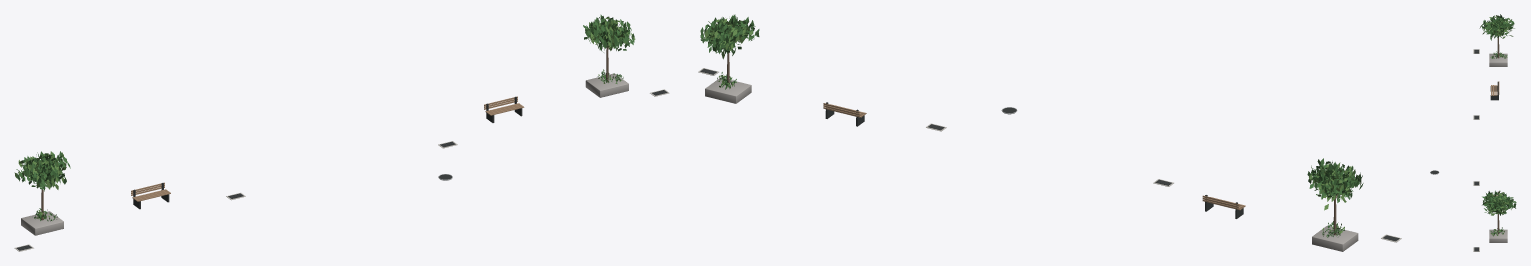
The model's file is hero-street.glb.
3 views of the same model, side by side, from view 1: azimuth 30°, elevation 25°; view 2: azimuth 150°, elevation 25°; view 3: azimuth 270°, elevation 25° (orthographic). The views are drawn at different scales.
Parts seen in each view (by area): view 1: SM_heroStreet; view 2: SM_heroStreet; view 3: SM_heroStreet.
Boxes of the visible parts, x1=… form: SM_heroStreet: x1=14, y1=14, x2=669, y2=251; SM_heroStreet: x1=698, y1=14, x2=1401, y2=251; SM_heroStreet: x1=1430, y1=14, x2=1516, y2=251.
Bounding box in the file's own units: 36.84 × 4.07 × 6.68.
